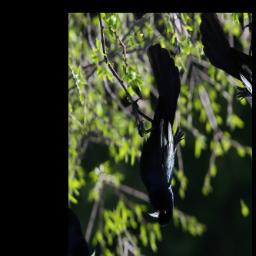Crow: (100, 36, 221, 235)
